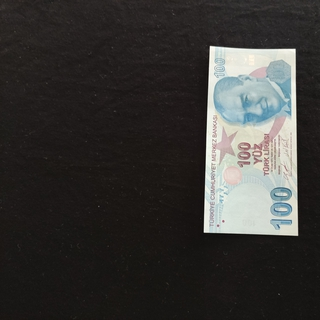100TLFront: (202, 45, 299, 237)
